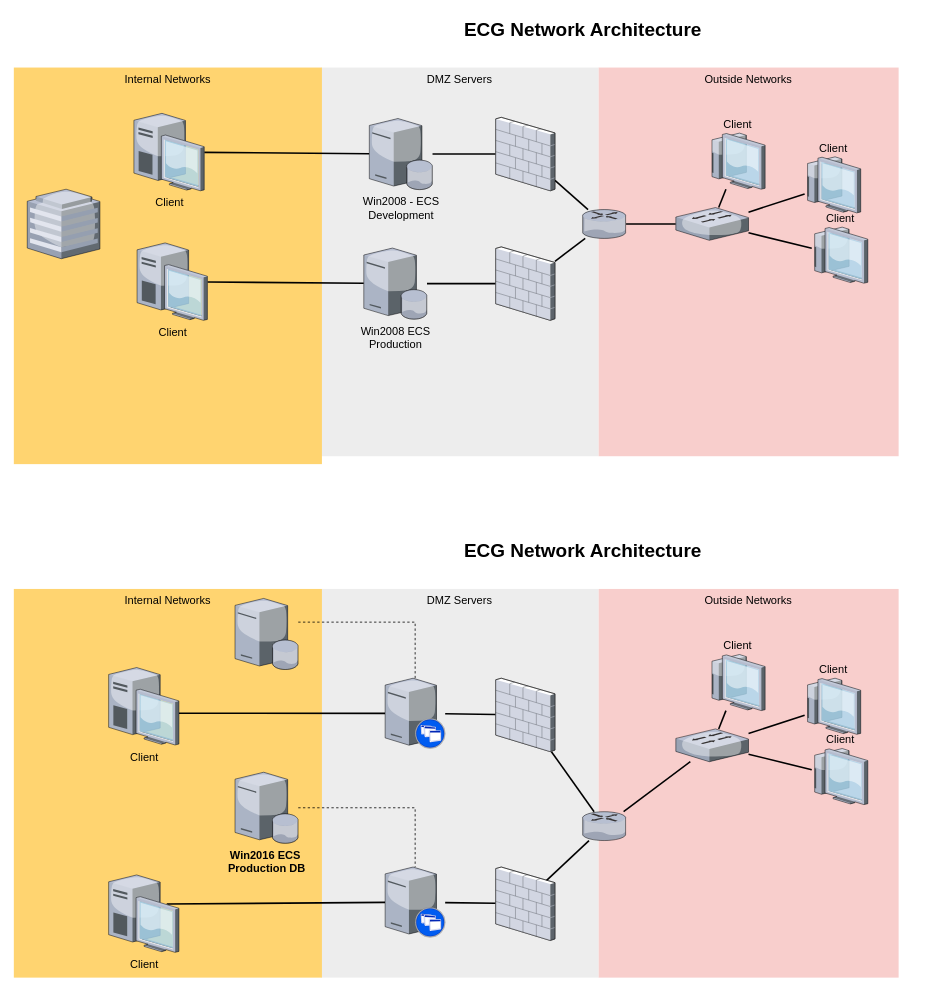
This 935x991 diagram has some shape labels left out. Each missing label, with the box of its shape:
Win2016 ECS Development: (385, 678, 445, 748)
Win2016 ECS Development DB: (235, 598, 298, 669)
Win2016 ECS Production: (385, 867, 445, 937)
